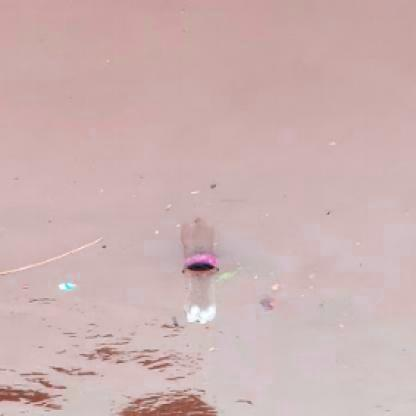Plastic: (182, 253, 220, 328)
